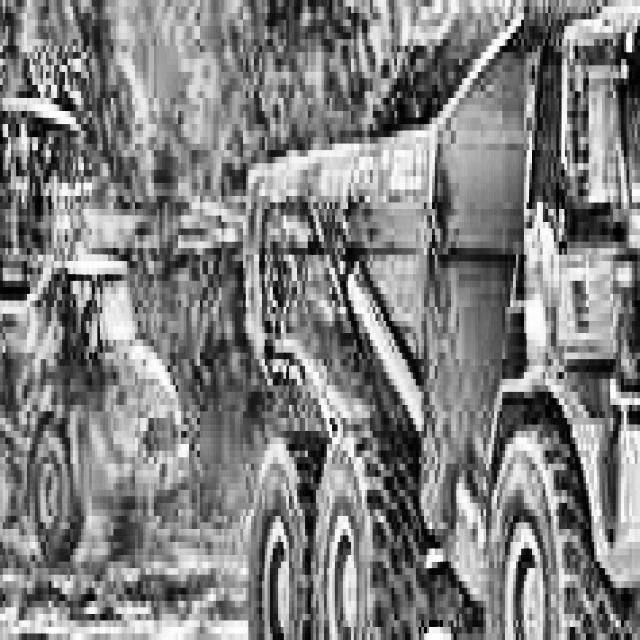dump_truck: (254, 0, 640, 640), (0, 72, 208, 614)
